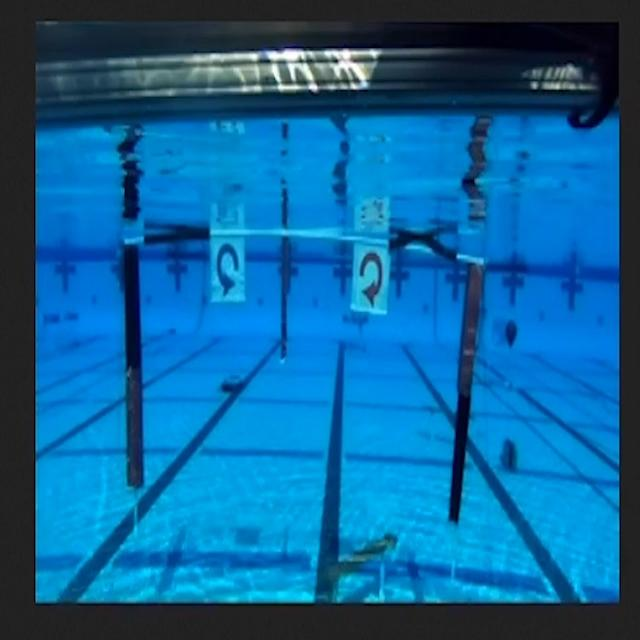Gate: (108, 217, 498, 528)
